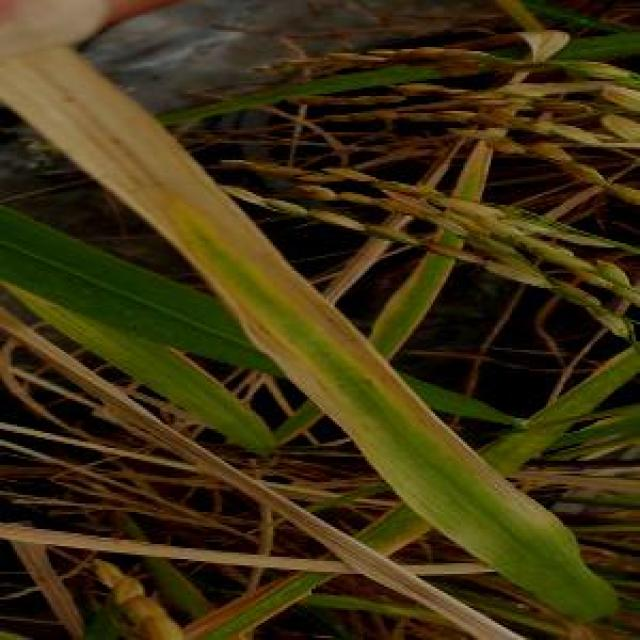Bacterial_Leaf_Blight: (376, 384, 514, 580)
